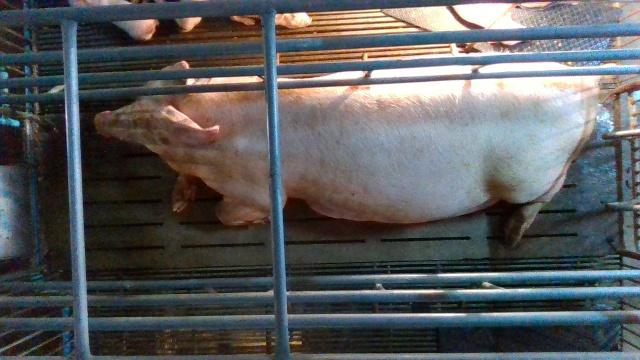piglet: (69, 0, 157, 41), (229, 13, 312, 29)
sow-sit: (92, 52, 618, 250)
